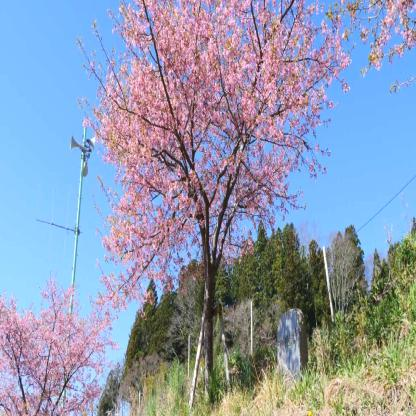KawazuSakura: (95, 5, 416, 312), (1, 284, 112, 414)
